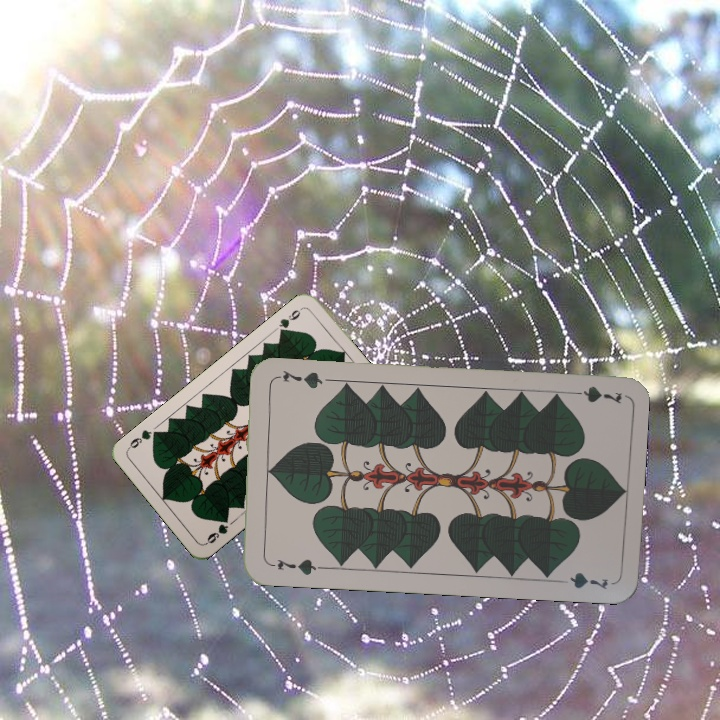G7: (564, 382, 623, 407), (265, 555, 324, 577)
G9: (201, 512, 231, 547), (275, 303, 305, 338)
